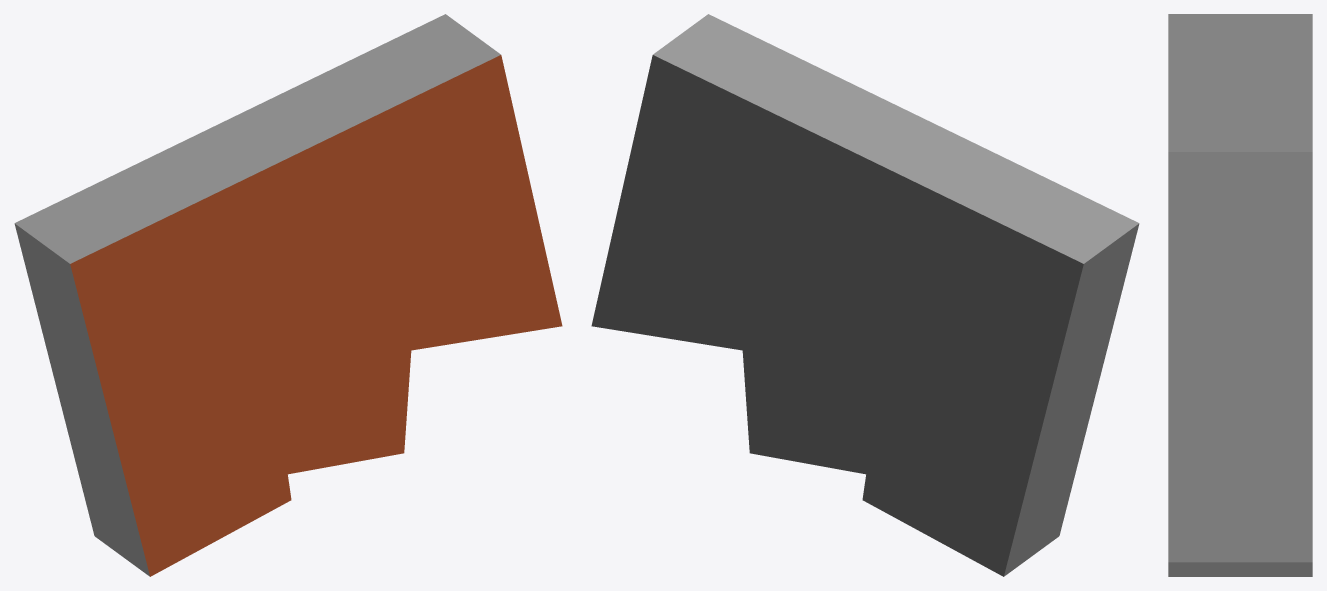
The model's file is construction_6097_assumed_A_Casa_h6m.obj.
3 views of the same model, side by side, from view 1: azimuth 30°, elevation 25°; view 2: azimuth 150°, elevation 25°; view 3: azimuth 270°, elevation 25° (orthographic). The views are drawn at different scales.
Visible parts, largest first — view 1: construction_6097_assumed_A_Casa; view 2: construction_6097_assumed_A_Casa; view 3: construction_6097_assumed_A_Casa.
Part boxes in pixels (left/top/right/bottom): construction_6097_assumed_A_Casa: left=14, top=14, right=562, bottom=576; construction_6097_assumed_A_Casa: left=591, top=14, right=1139, bottom=576; construction_6097_assumed_A_Casa: left=1168, top=14, right=1312, bottom=576.
Bounding box in the file's own units: 30.62 × 25.94 × 6.
